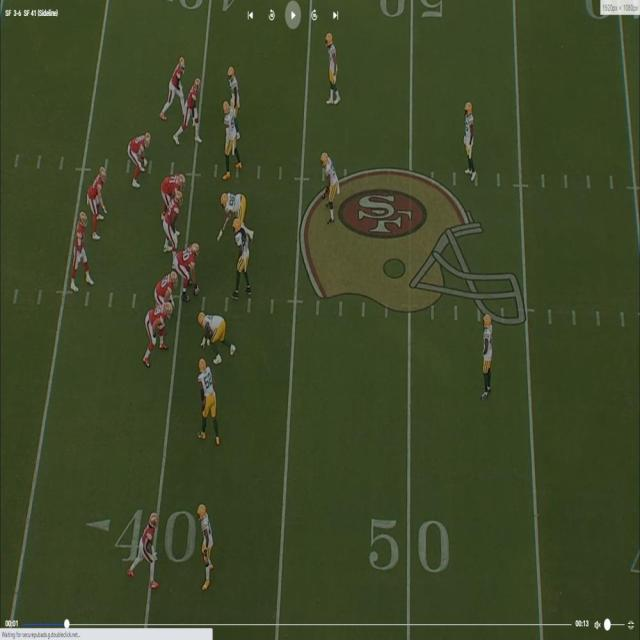center: (180, 244, 198, 291)
db: (200, 505, 216, 585), (481, 317, 493, 399), (325, 34, 338, 104), (466, 102, 476, 178), (228, 66, 241, 105)
lb: (230, 218, 250, 298), (321, 153, 334, 212)
qb: (70, 212, 89, 286)
skill: (134, 513, 158, 584), (179, 77, 201, 136), (166, 60, 187, 115), (90, 168, 106, 235), (131, 132, 149, 183)
